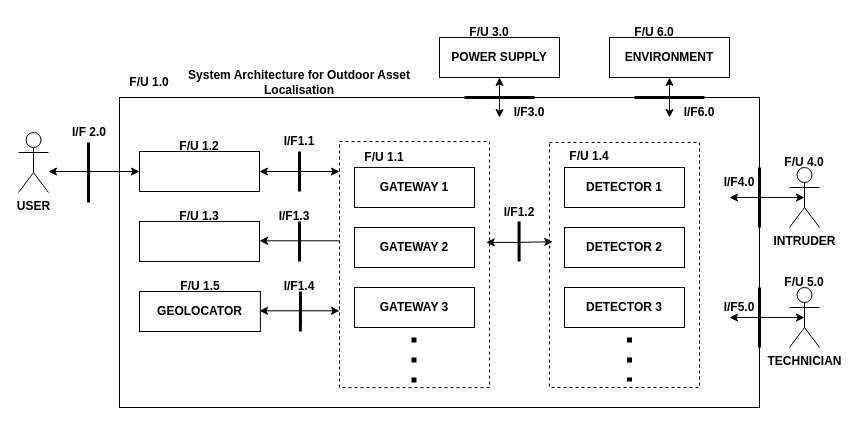
Some shapes in this 859 by 425 pixel diagram are drawn without their labels. The centre of each missing label's shape, as x and y in pixels:
"ALERT TRIGGER" goes at point (199, 241).
"HMI" goes at point (199, 171).
